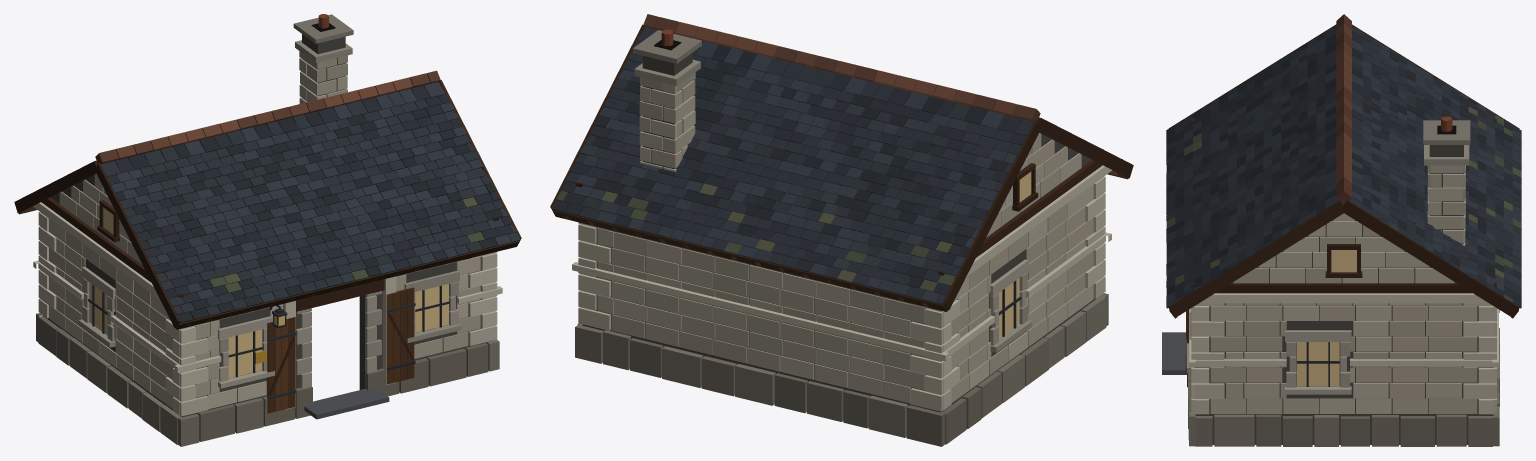
Rendered from bank.glb.
3 views of the same model, side by side, from view 1: azimuth 30°, elevation 25°; view 2: azimuth 150°, elevation 25°; view 3: azimuth 270°, elevation 25° (orthographic). The views are drawn at different scales.
Parts seen in each view (by area): view 1: bank_shell, bank_glass; view 2: bank_shell, bank_glass; view 3: bank_shell, bank_glass.
Part boxes in pixels (<box>): bank_shell: <box>14,14,521,446</box>; bank_glass: <box>89,207,448,378</box>; bank_shell: <box>550,14,1133,446</box>; bank_glass: <box>998,171,1031,338</box>; bank_shell: <box>1162,14,1521,446</box>; bank_glass: <box>1297,250,1356,385</box>.
Bounding box in the file's own units: 9.94 × 7.72 × 8.41.
